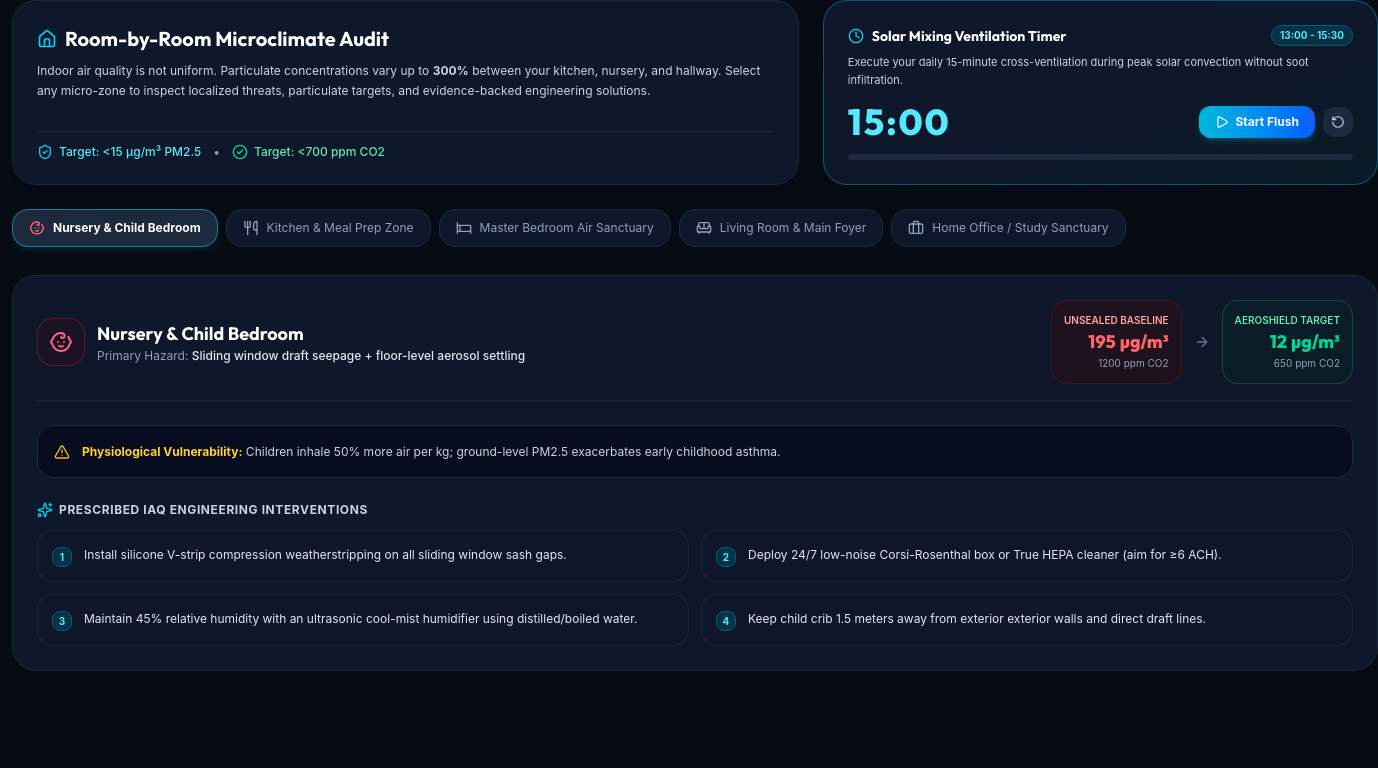
Test: RoomIAQAudit Component & Ventilation Timer › switches active room tab and updates target PM2.5 and prescriptions
Click the tab "Kitchen & Meal Prep Zone" at [328, 228], box x1=226 y1=209 x2=431 y2=247
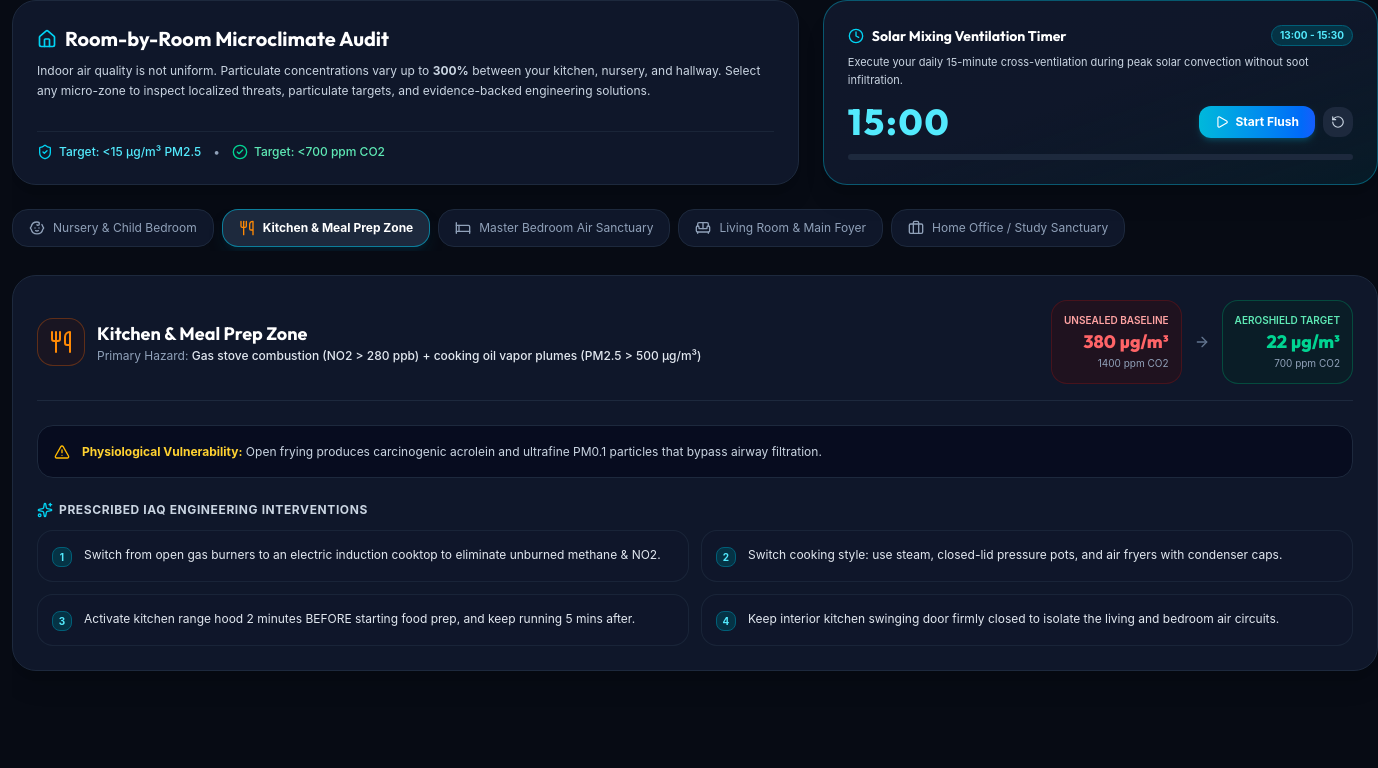
Now the heading "Kitchen & Meal Prep Zone" is shown, box x1=97 y1=322 x2=307 y2=345
Now the text "380 µg/m³" is shown, box x1=1083 y1=330 x2=1169 y2=353
Now the text "22 µg/m³" is shown, box x1=1266 y1=330 x2=1340 y2=353
